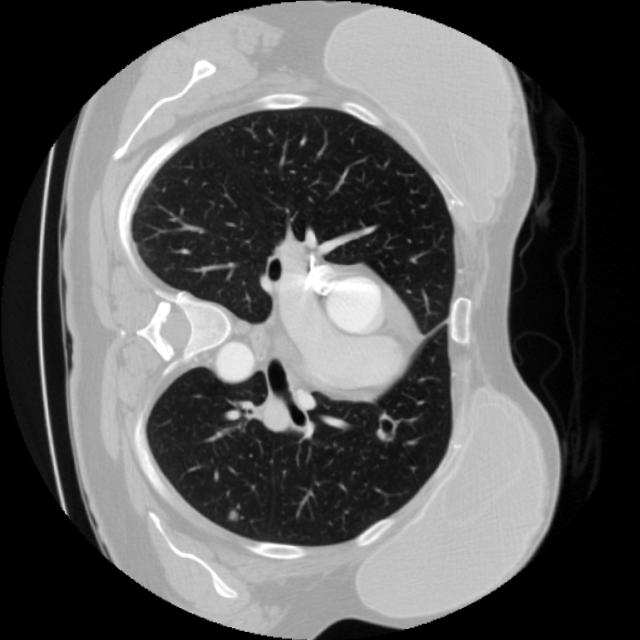nodule: (366, 415, 399, 448)
